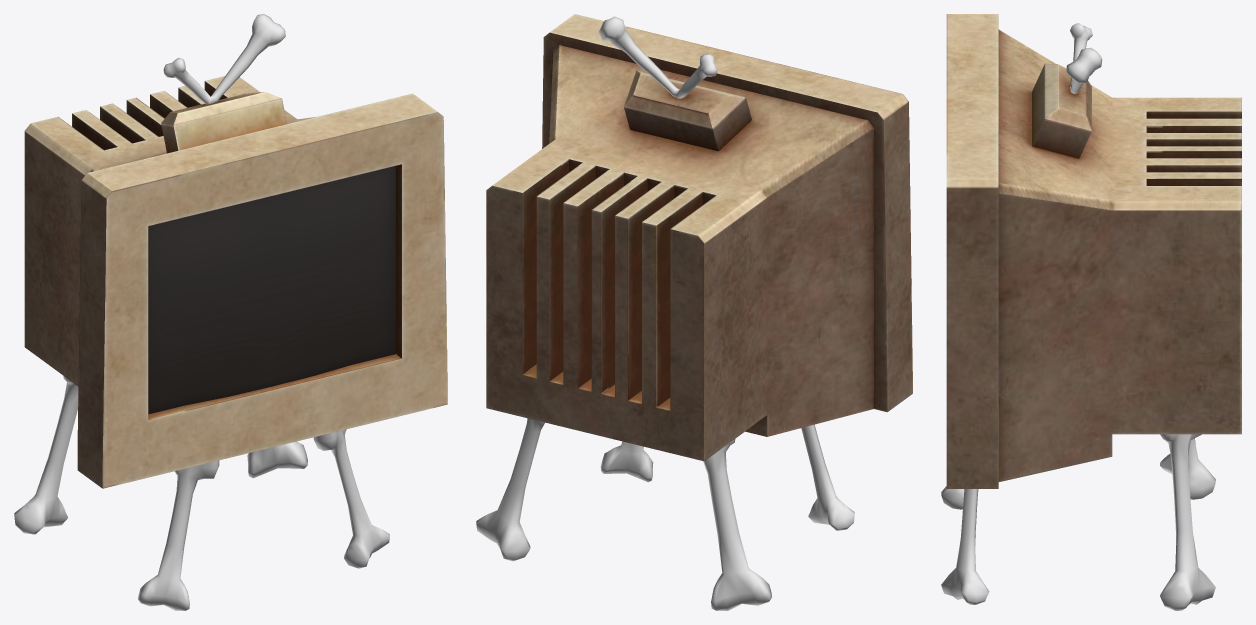
File: skelevision.glb
3 renders of one model, left to right at view 1: azimuth 30°, elevation 25°; view 2: azimuth 150°, elevation 25°; view 3: azimuth 270°, elevation 25°, orthographic. The views are drawn at different scales.
Visible parts, largest first — view 1: Cube (×2), bone; view 2: Cube, bone; view 3: Cube, bone.
Part boxes in pixels (bbox=[...]): Cube (×2): bbox=[24, 76, 447, 488]; bone: bbox=[14, 14, 389, 610]; Cube: bbox=[486, 14, 912, 461]; bone: bbox=[476, 16, 854, 610]; Cube: bbox=[946, 14, 1241, 488]; bone: bbox=[941, 23, 1215, 610].
Size of the model in its own units: 1.41 by 2 by 1.03.
Materials: 3 (2 with a texture image).
